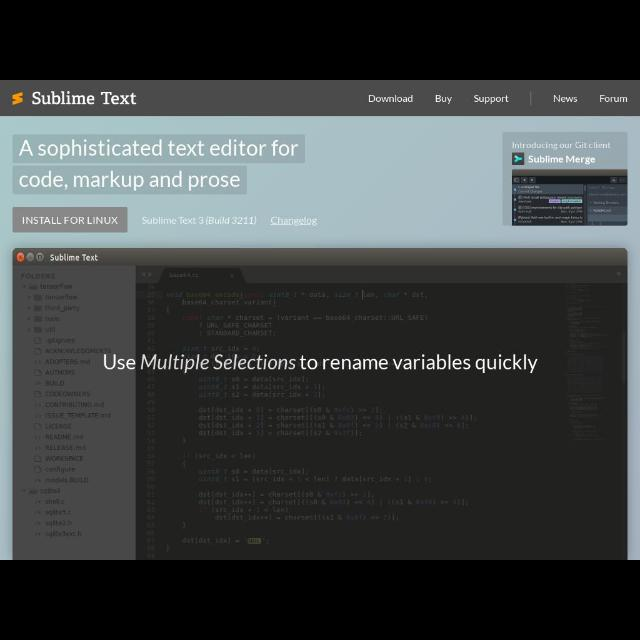image: (14, 250, 628, 560), (512, 168, 628, 225), (8, 91, 26, 107), (512, 154, 524, 164), (528, 91, 534, 105)
text: (97, 352, 539, 372), (17, 138, 299, 162), (18, 167, 242, 193), (32, 90, 136, 108), (510, 140, 612, 150), (139, 216, 255, 224), (530, 154, 596, 164), (368, 92, 414, 104), (272, 216, 318, 227), (472, 94, 511, 104), (600, 95, 628, 102), (554, 95, 576, 102), (434, 95, 452, 103)
textbutton: (13, 208, 127, 230)
toolbar: (1, 82, 639, 116)
